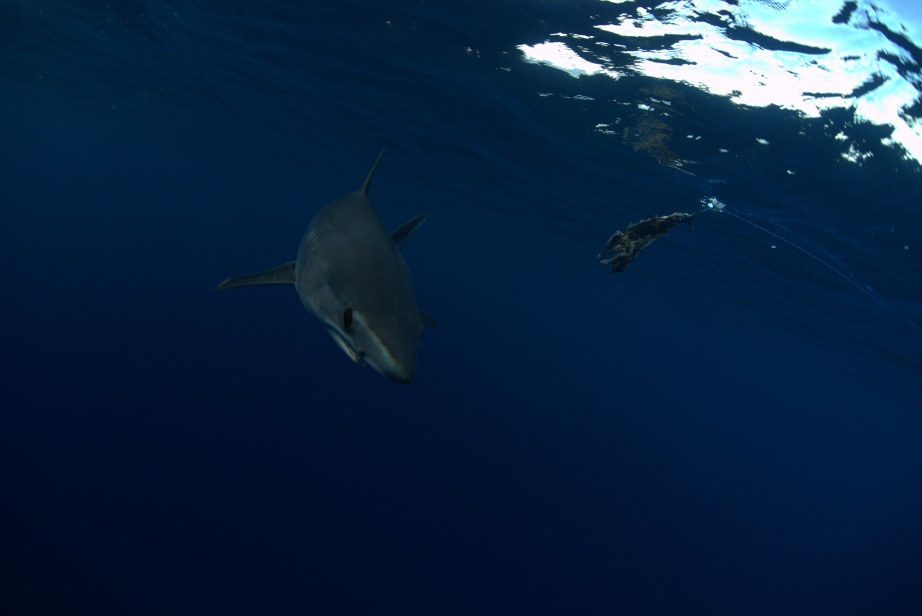Mako: (206, 142, 452, 389)
